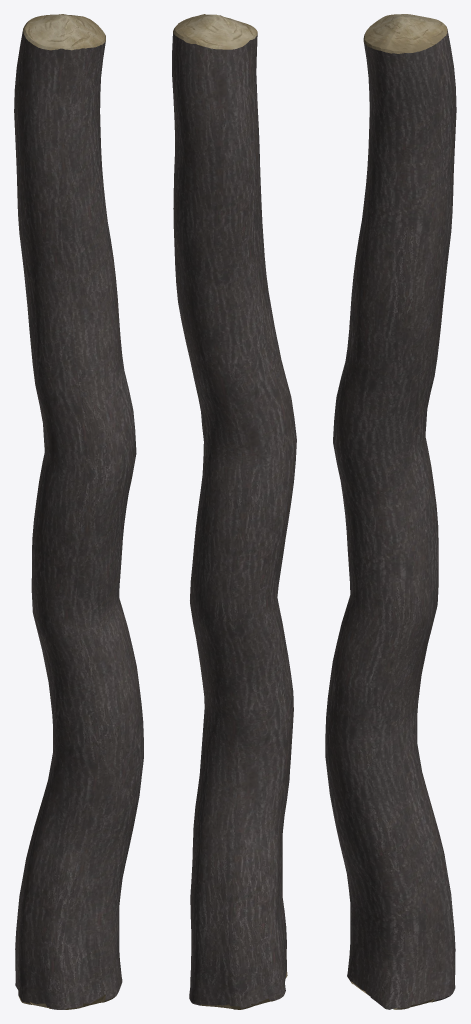
3 renders of one model, left to right at view 1: azimuth 90°, elevation 25°; view 2: azimuth 150°, elevation 25°; view 3: azimuth 270°, elevation 25°, orthographic.
Visible parts, largest first — view 1: SM_BM_Oak_Tree_02_full_LOD0; view 2: SM_BM_Oak_Tree_02_full_LOD0; view 3: SM_BM_Oak_Tree_02_full_LOD0.
Part boxes in pixels (<box>): SM_BM_Oak_Tree_02_full_LOD0: <box>14,14,143,1009</box>; SM_BM_Oak_Tree_02_full_LOD0: <box>172,14,296,1009</box>; SM_BM_Oak_Tree_02_full_LOD0: <box>325,14,456,1009</box>.
Bounding box in the file's own units: 1.22 × 10.81 × 1.3.
Materials: 1 (1 with a texture image).
